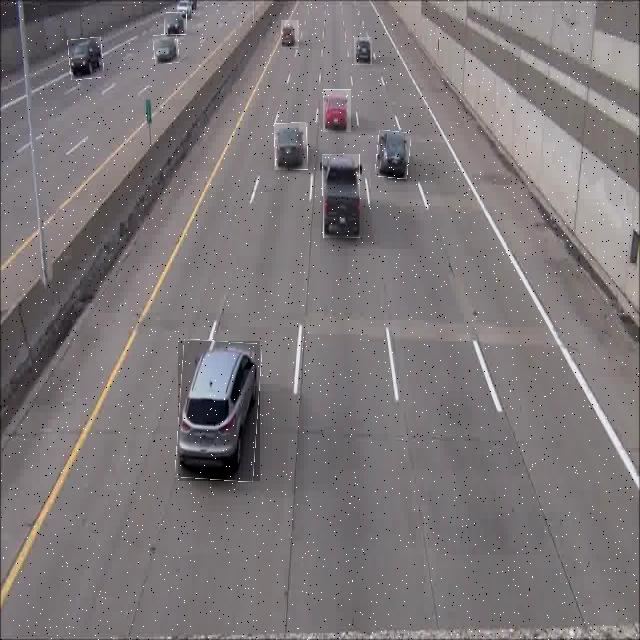Car: (178, 341, 260, 481), (323, 154, 360, 238), (376, 131, 411, 179), (274, 123, 308, 170), (68, 38, 103, 80), (323, 89, 351, 132), (153, 34, 179, 63), (354, 37, 372, 65), (282, 21, 300, 48), (165, 13, 187, 35)
